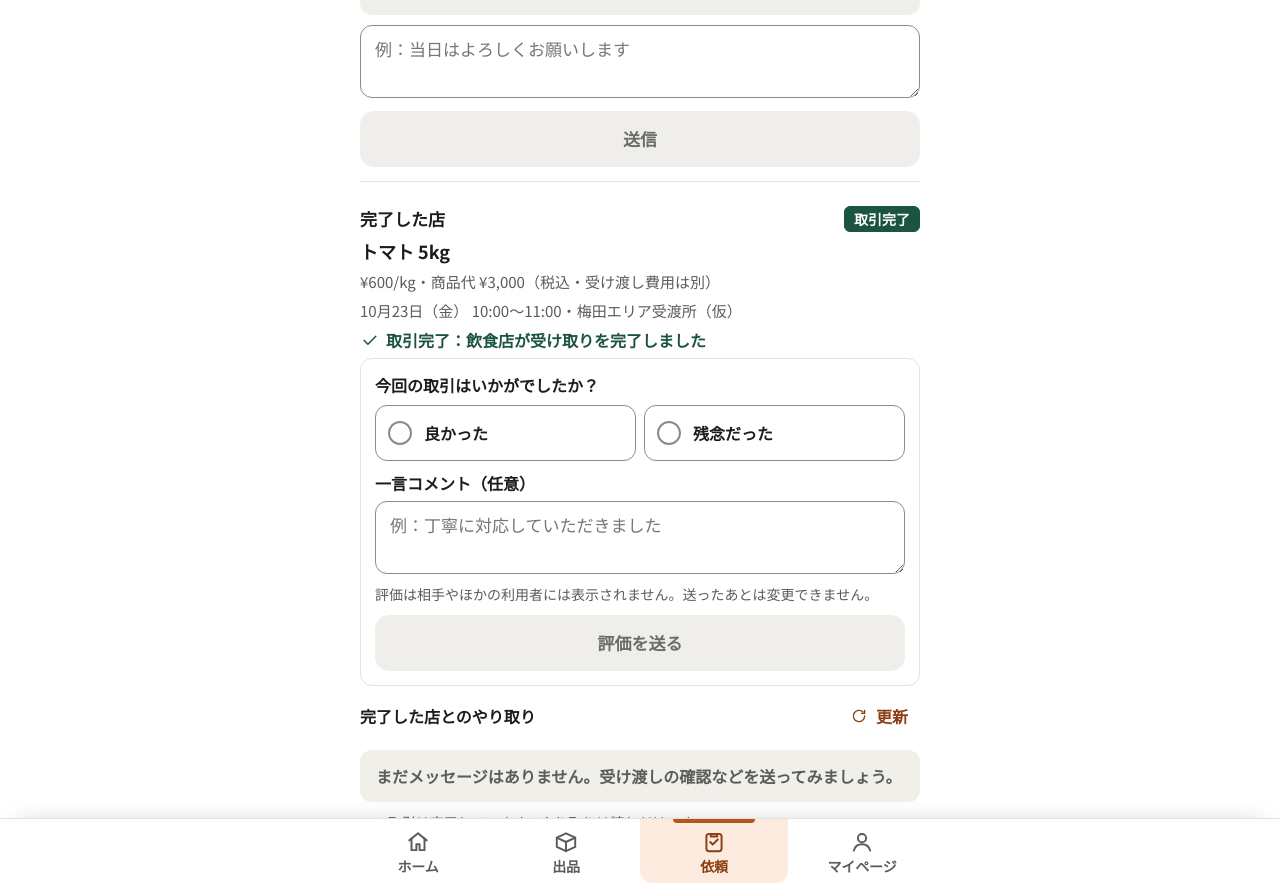
Scenario: 取引後の評価と「☆ いつもの農家」（受け取り完了後だけ・農家ごと） › 生産者：完了した取引だけ評価できる（いつもの農家のボタンは出さない）
(page scrolled)
Expected: the element with class "review-box" shows "評価は相手やほかの利用者には表示されません", [375,584,878,604]
Click the radio button labelled "残念だった". click: (774, 433)
box: [644,405,905,461]
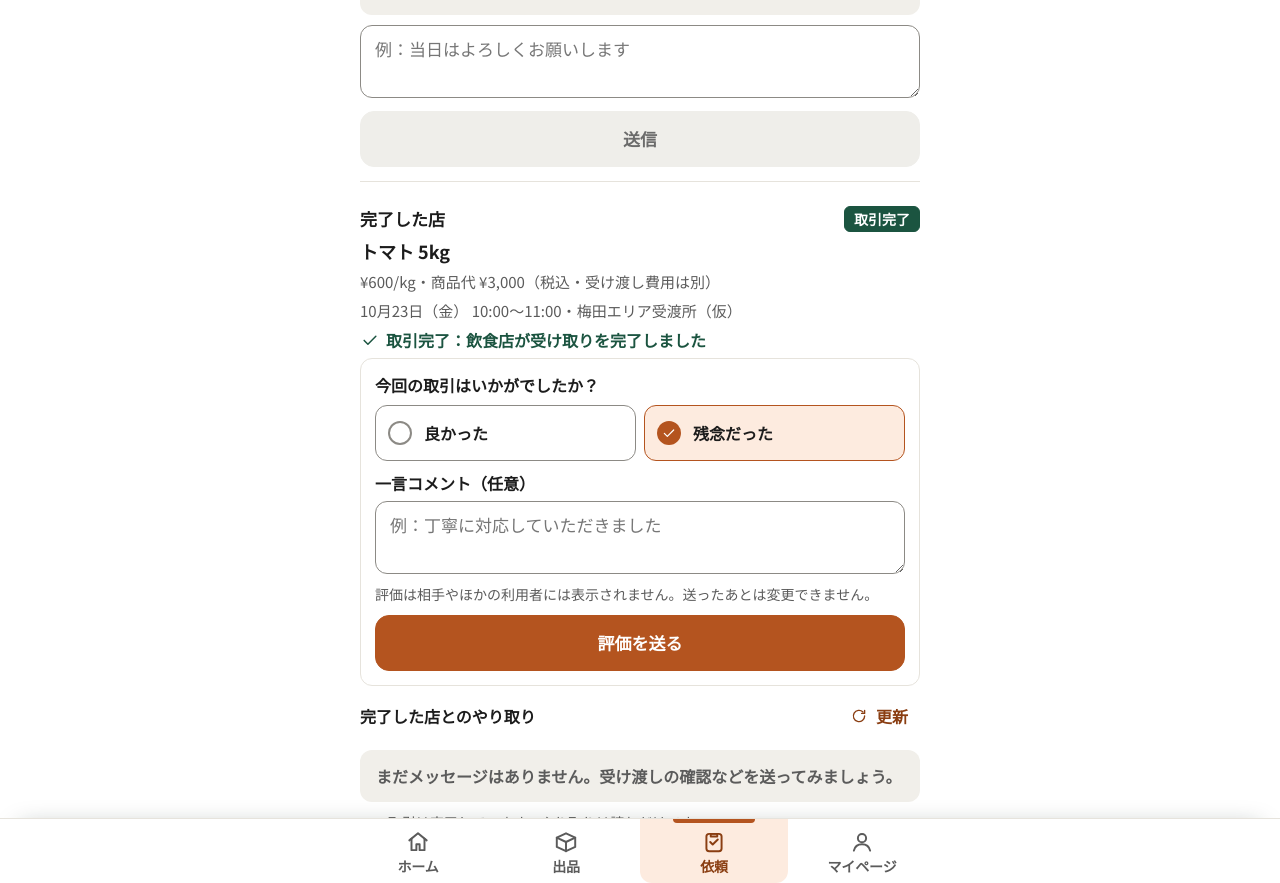
Click the button "評価を送る". click: (640, 643)
box: [375,615,905,671]
(page scrolled)
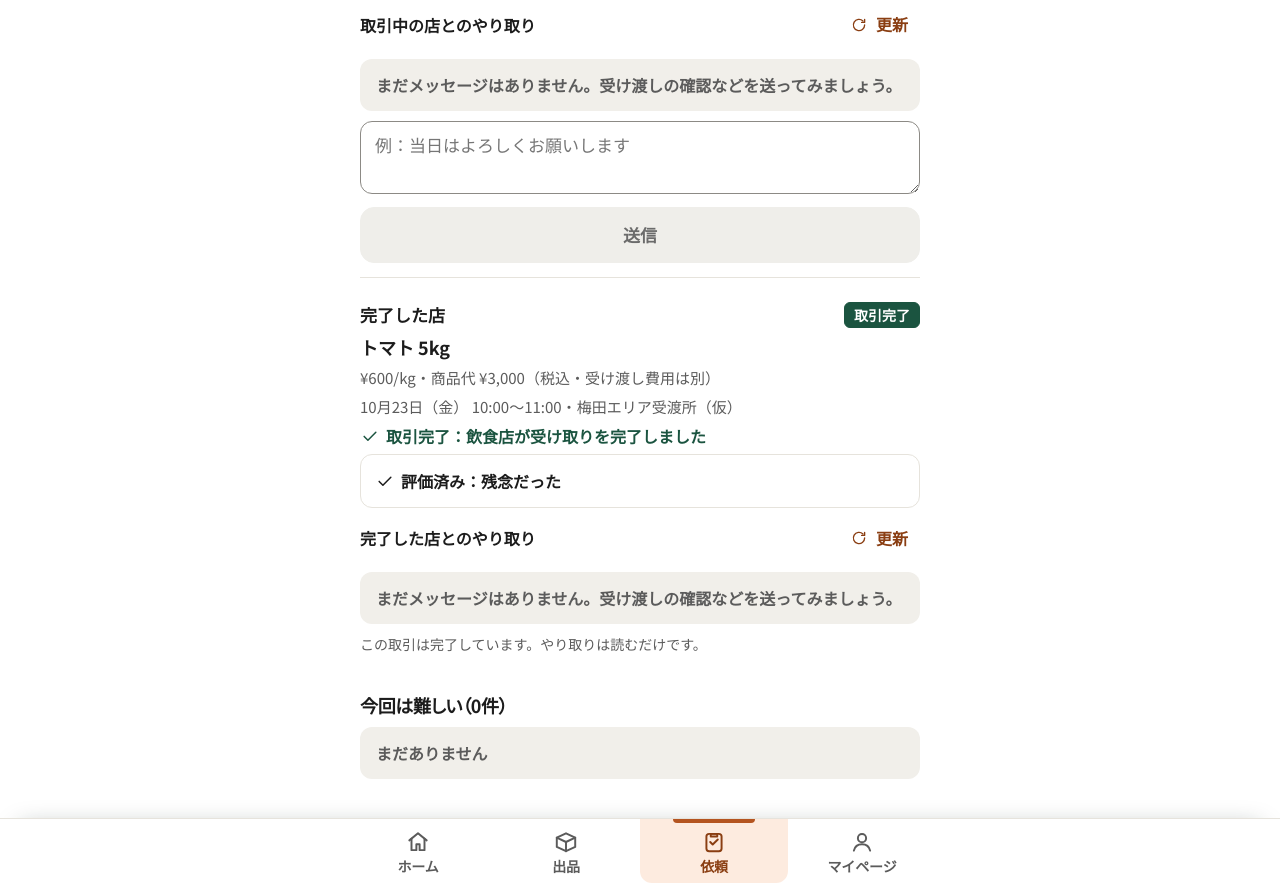
Now the message with class "review-done" reads "評価済み：残念だった", box [375,469,561,493]
